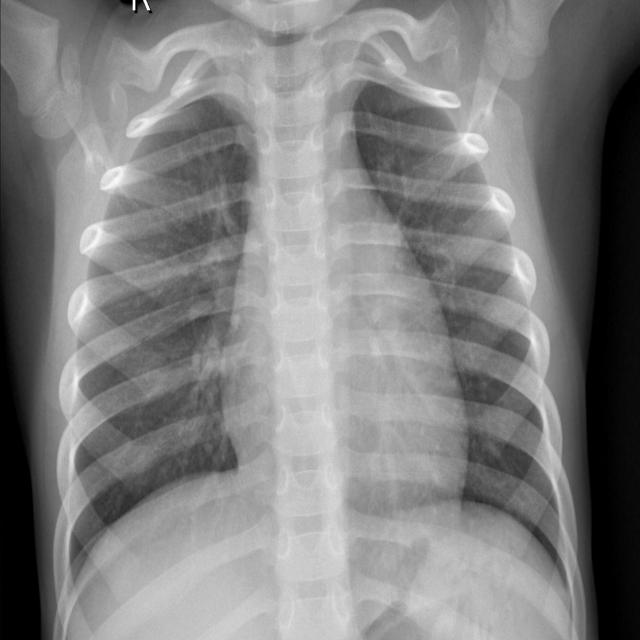no-pneumonia: (355, 84, 579, 585), (56, 98, 255, 594)
